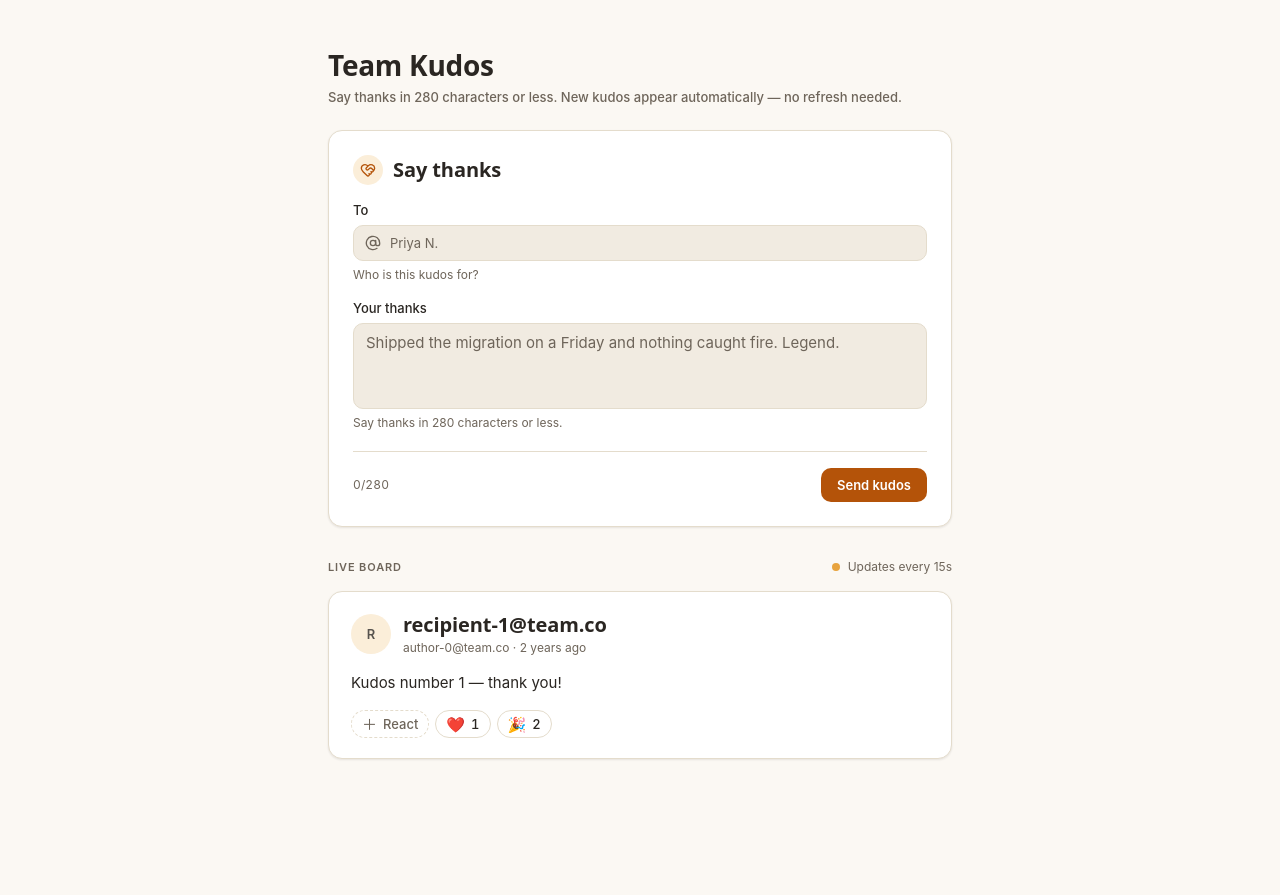
Test: [AC-7] submitting the composer with a recipient and a message makes the new kudos appear at the top of the board list showing recipient, message and author
Expected: the button "Send kudos" is disabled, [821, 468, 927, 502]
Type "priya@team.co" into the field labelled "To".
click(640, 243); type("priya@team.co")  # box [353, 225, 927, 261]
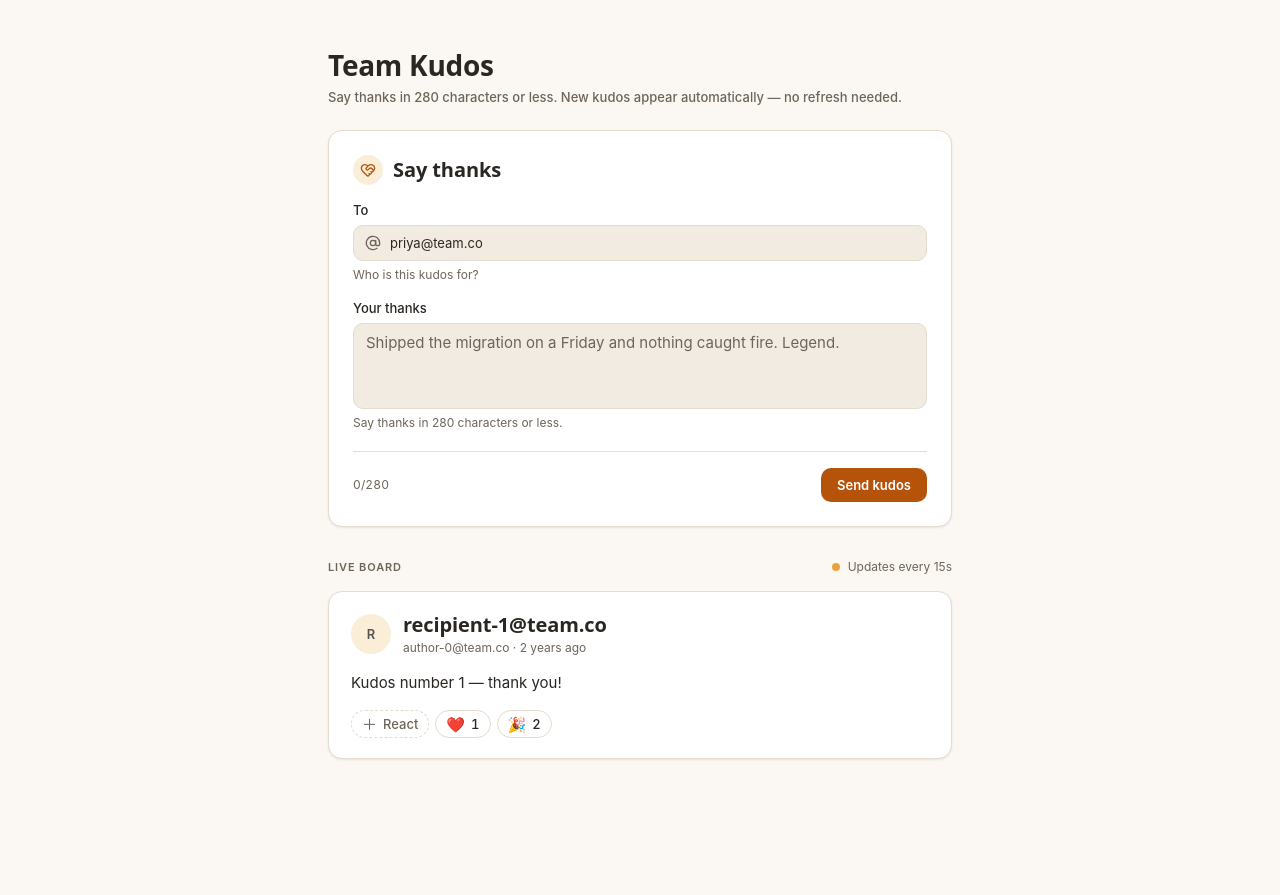
Replace the text in the text box labelled "Your thanks" with "Shipped the migration on a Friday. Legend." at [640, 366], box [353, 323, 927, 409]
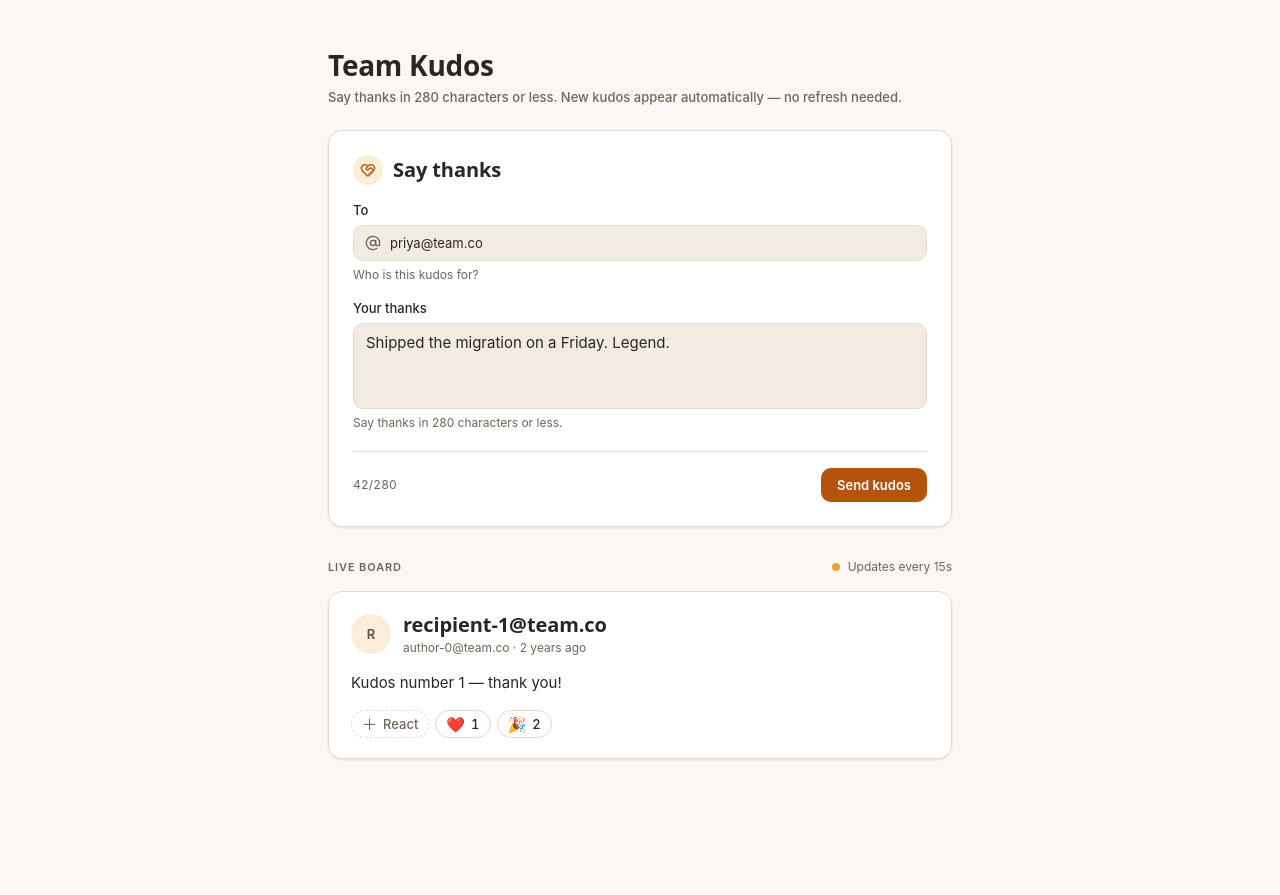
Click the button "Send kudos".
click(874, 485)  # box [821, 468, 927, 502]
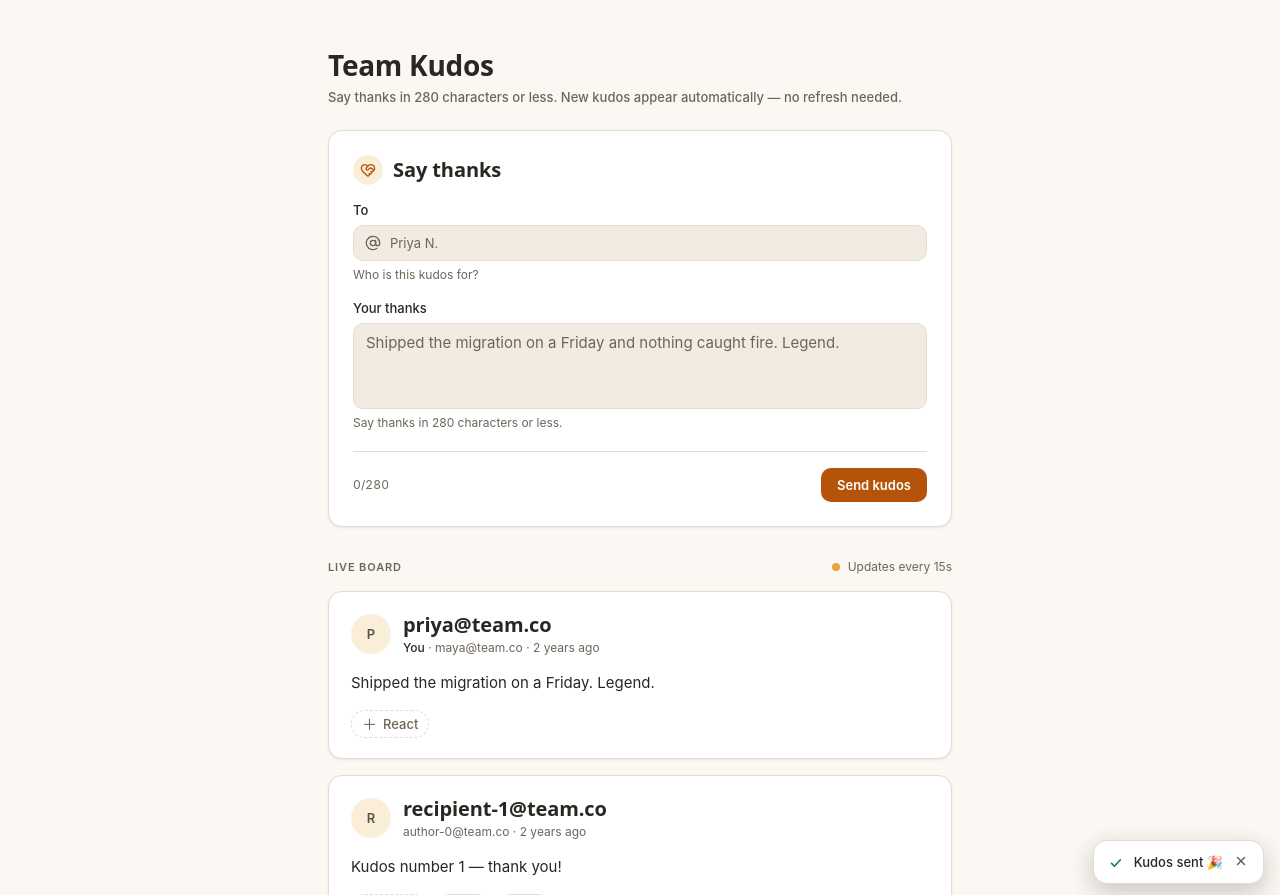
Expected: the heading "priya@team.co" is shown, [403, 611, 552, 638]
Expected: the text with test id "kudos-card-message" reads "Shipped the migration on a Friday. Legend.", [351, 673, 655, 692]
Expected: the text with test id "kudos-card-author" reads "maya@team.co", [435, 640, 523, 655]
